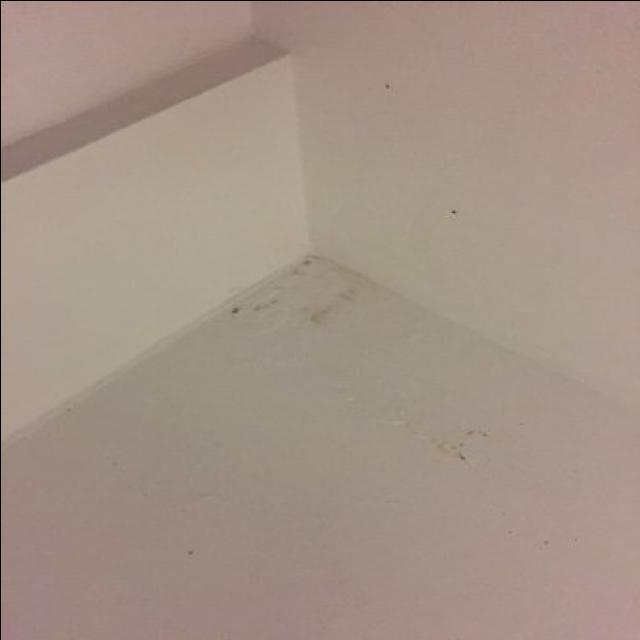tile: (233, 248, 378, 342), (388, 400, 494, 465)
